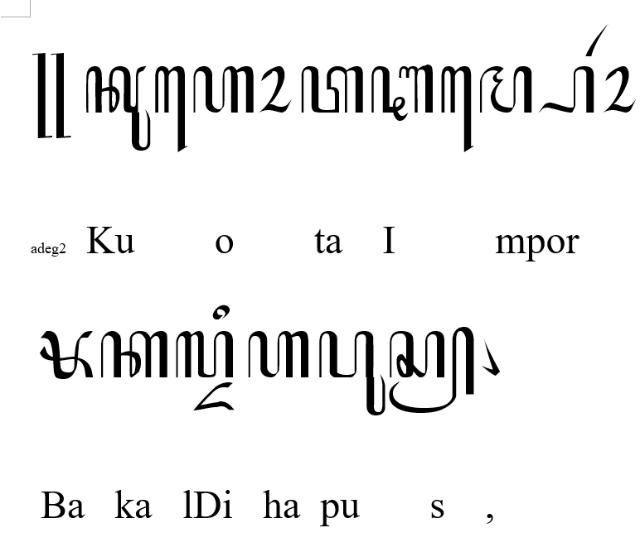-s: (388, 327, 474, 415)
B: (39, 330, 93, 380)
I: (371, 63, 434, 121)
Ku: (85, 64, 152, 152)
_d: (193, 382, 235, 412)
_p: (540, 64, 594, 114)
_r1: (585, 23, 609, 57)
adeg2: (32, 53, 72, 139)
e1: (440, 65, 474, 153), (154, 66, 188, 153)
h: (192, 66, 254, 114), (247, 331, 309, 379)
i: (212, 303, 230, 320)
k: (100, 330, 168, 380)
kom: (482, 338, 500, 376)
l: (176, 331, 234, 379)
m: (478, 66, 532, 114)
o: (258, 65, 292, 113), (602, 66, 636, 114)
pu: (318, 330, 386, 418)
t: (300, 66, 364, 114)
